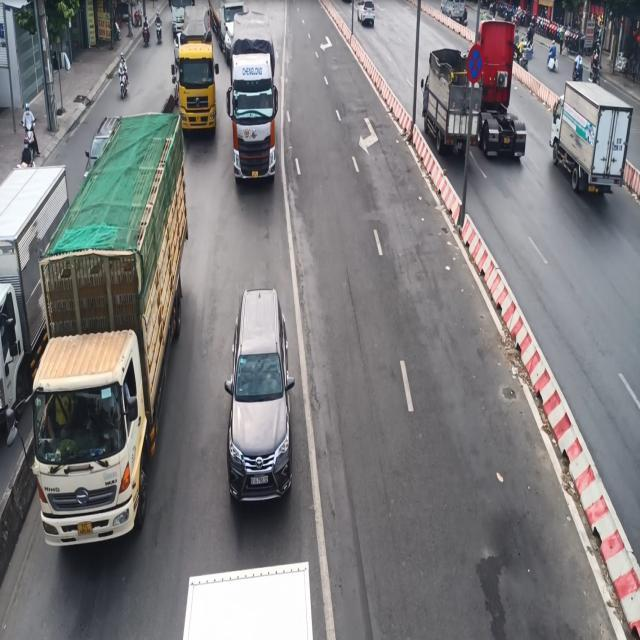car: (224, 287, 295, 504)
truck: (28, 110, 188, 547), (548, 79, 633, 195)
